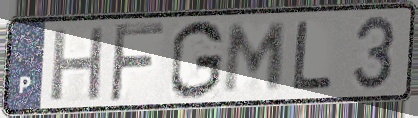3: (351, 13, 397, 93)
F: (106, 21, 167, 106)
G: (168, 18, 226, 102)
H: (47, 24, 108, 105)
L: (291, 19, 337, 93)
M: (220, 20, 291, 96)
